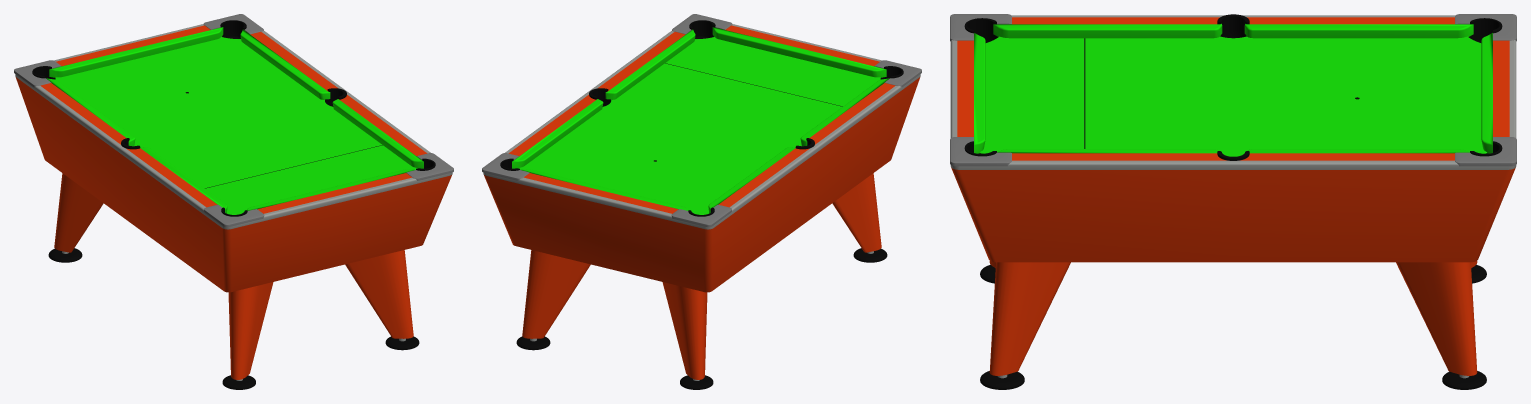
File: pooltable.glb
The picture shows the model from 3 angles, left to right: view 1: azimuth 30°, elevation 25°; view 2: azimuth 150°, elevation 25°; view 3: azimuth 270°, elevation 25°; orthographic projection. The views are drawn at different scales.
Parts seen in each view (by area): view 1: cutbody, cuttable; view 2: cutbody, cuttable; view 3: cutbody, cuttable.
Boxes of the visible parts, left/top/right/bottom form: cutbody: left=14, top=14, right=453, bottom=389; cuttable: left=55, top=37, right=417, bottom=214; cutbody: left=482, top=14, right=921, bottom=389; cuttable: left=518, top=37, right=880, bottom=214; cutbody: left=950, top=14, right=1516, bottom=389; cuttable: left=980, top=36, right=1486, bottom=156.
Bounding box in the file's own units: 37.92 × 28.6 × 60.92.
